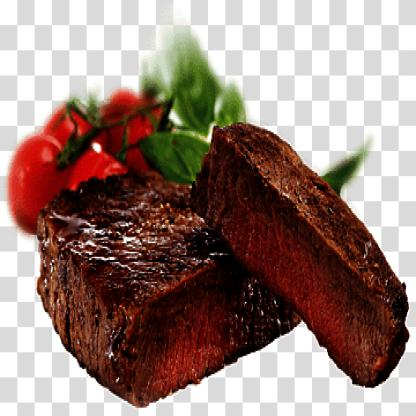Carne: (31, 166, 303, 406), (192, 118, 414, 382)
